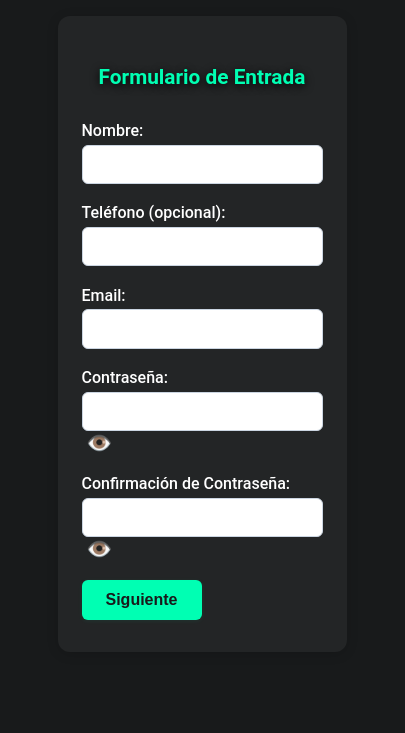
Test case: en el FormularioEntrada › muestra error si el email no es válido
Step 1. Type "correo-invalido" into the field labelled "Email:" → coordinates (202, 329), box [82, 309, 322, 349]
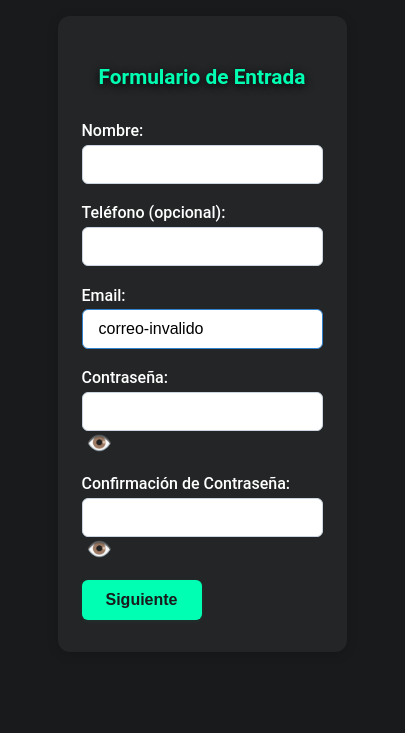
Step 2. Click the button "Siguiente" → coordinates (142, 600), box [82, 580, 202, 620]
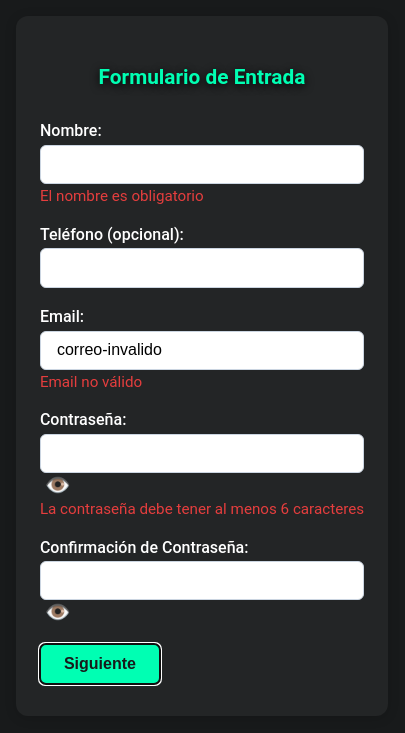
Expected: the text "Email no válido" is shown, [40, 373, 142, 391]
